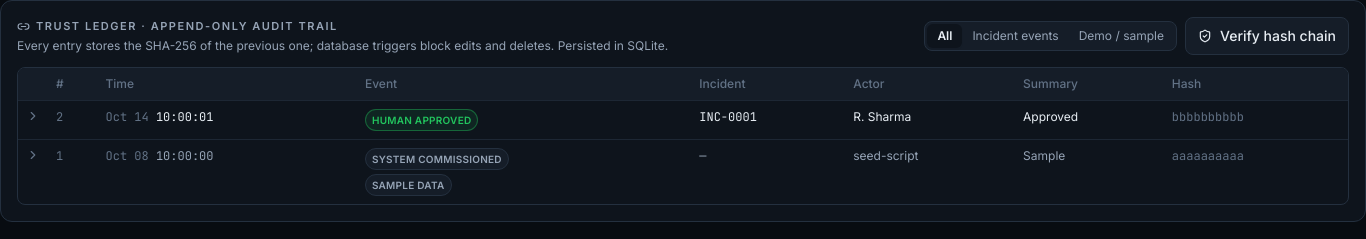
TrustLedger › labels sample data and filters to incident events
Expected: the text "sample data" is shown, [365, 174, 452, 196]
Expected: the number of rows with test id "ledger-row" is 2, [18, 100, 1348, 140]; [18, 140, 1348, 204]
What coordinates should you click on to do the following:
click the button "Incident events"
I would click on:
 (1016, 36)
Its box is [962, 24, 1069, 48].
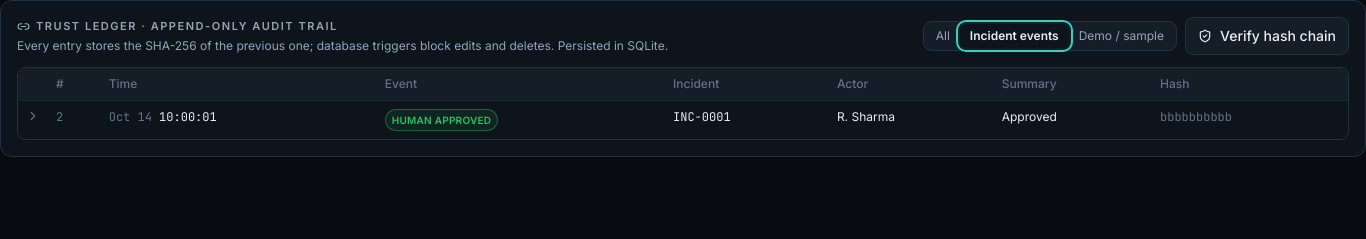
Expected: the number of rows with test id "ledger-row" is 1, [18, 100, 1348, 139]
